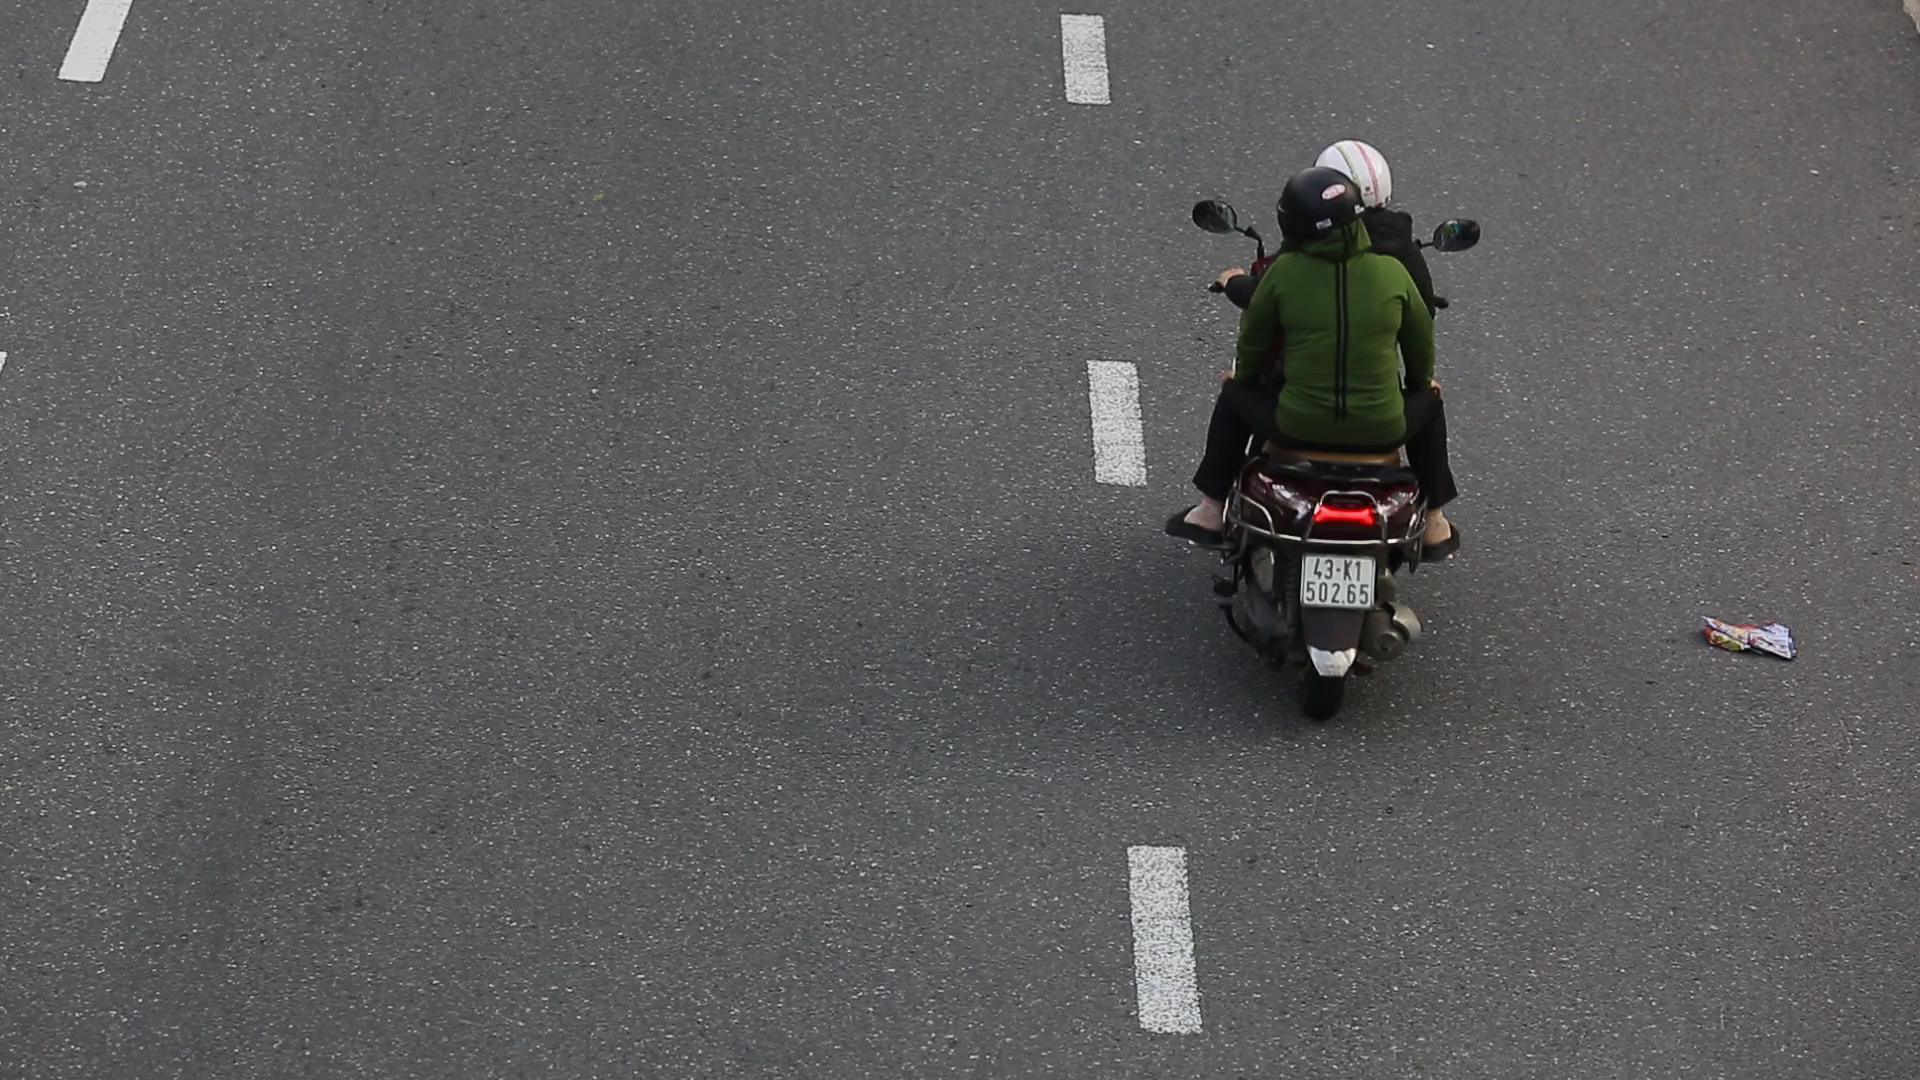motobike: (1162, 138, 1484, 742)
